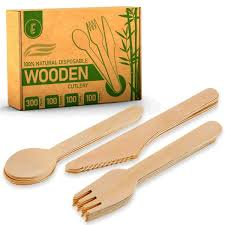Wooden Utensils: (3, 85, 222, 202)
